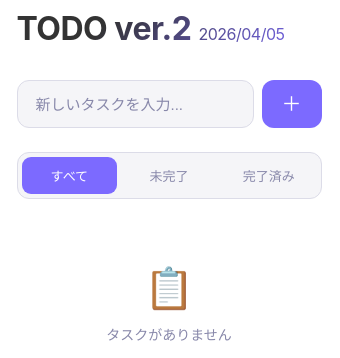
App › タスクを追加できる
Type "買い物" into the field labelled "新しいタスク". click: (135, 104)
box: [16,80,254,128]
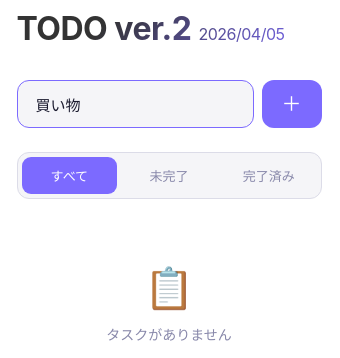
Click the button "＋". click: (292, 104)
box: [262,80,322,128]
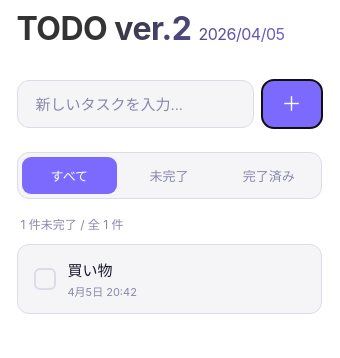
Now the text "買い物" is shown, box [68,261,112,280]
Now the field labelled "新しいタスク" is empty, box [16,80,254,128]
